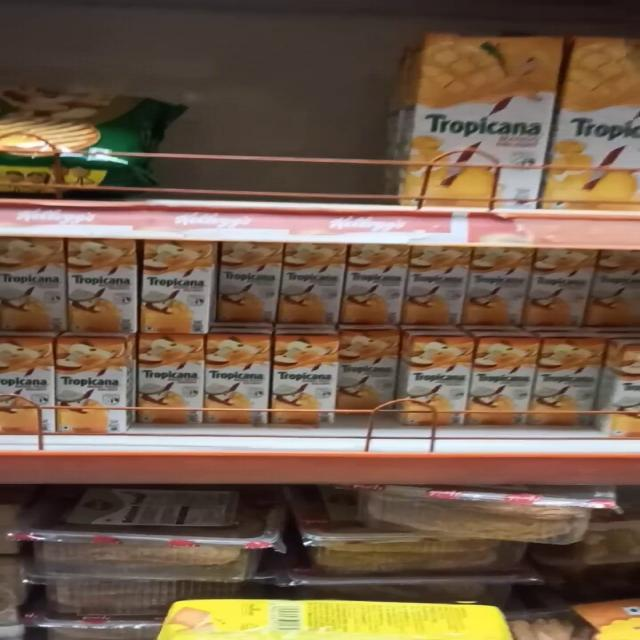Tropicana: (398, 26, 556, 214), (61, 240, 140, 336), (56, 338, 132, 427), (0, 241, 69, 335), (276, 333, 346, 425), (204, 336, 276, 425), (138, 242, 208, 333), (458, 251, 534, 329), (277, 239, 347, 323), (132, 333, 202, 416), (392, 247, 462, 329), (341, 248, 407, 333), (469, 338, 532, 423), (215, 247, 279, 329), (341, 333, 402, 413), (412, 336, 470, 416), (537, 343, 592, 427), (528, 251, 585, 329)
